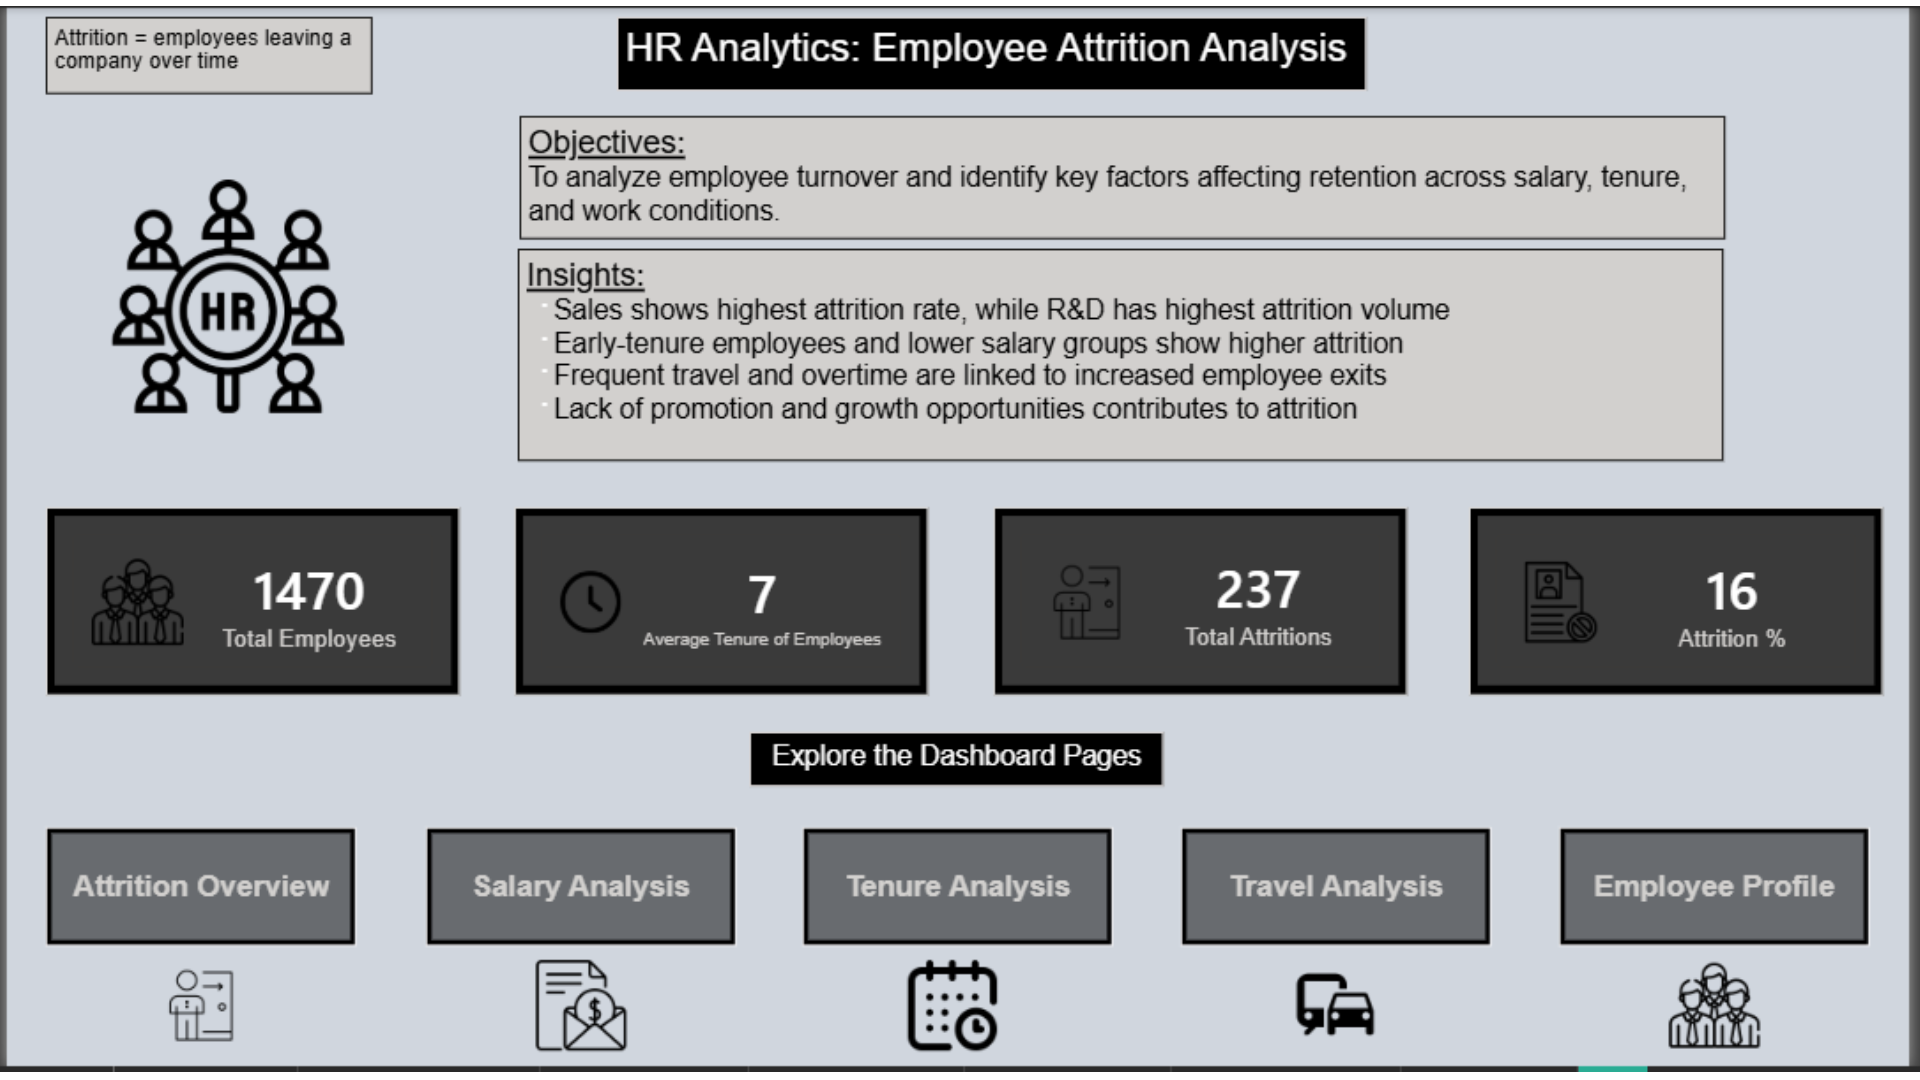

The page's visual inventory and layout, read from the dashboard file:
{"tool":"powerbi","page":{"name":"Home Page","canvas":[1280,720],"ordinal":0},"visuals":[{"type":"cardVisual","fields":{"Data":["Overview Measures.Total Employees"]},"box":[26.6,341.9,279.4,126.6],"z":0},{"type":"cardVisual","fields":{"Data":["Home Page Measures.Average Tenure of Employees"]},"box":[341.8,341.9,279.4,126.6],"z":1000},{"type":"cardVisual","fields":{"Data":["Overview Measures.Total Attritions"]},"box":[663.8,341.9,279.4,126.6],"z":2000},{"type":"cardVisual","fields":{"Data":["Overview Measures.Attribution %"]},"box":[984.5,341.9,279.4,126.6],"z":3000},{"type":"textbox","box":[410.2,12.4,505.1,49.5],"z":4000},{"type":"actionButton","box":[26.2,557.4,209.2,79.8],"z":5000},{"type":"actionButton","box":[282.2,557.4,209.2,79.8],"z":6000},{"type":"actionButton","box":[535.4,557.4,209.2,79.8],"z":7000},{"type":"actionButton","box":[790,557.4,209.2,79.8],"z":8000},{"type":"actionButton","box":[1044.6,557.4,209.2,79.8],"z":9000},{"type":"textbox","box":[499.6,492.7,279.4,37.2],"z":10000},{"type":"image","box":[89.5,646.9,82.6,60.6],"z":11000},{"type":"image","box":[345.5,646.9,82.6,60.6],"z":12000},{"type":"image","box":[598.7,646.9,75.7,60.6],"z":13000},{"type":"image","box":[853.3,645.5,82.6,61.9],"z":14000},{"type":"image","box":[1108,646.9,82.6,60.6],"z":15000},{"type":"image","box":[63.3,121.1,172,156.9],"z":16000},{"type":"textbox","box":[345.2,78.6,811.9,83.3],"z":17000},{"type":"textbox","box":[344,167.9,811.9,142.9],"z":18000},{"type":"textbox","box":[26.2,11.9,220.2,52.4],"z":19000}]}

Visuals, with their boxes in screenshot pixels (x1, y1, x2, y2), scaled from the page's 1280x720 canvas onto the 1920x1080 screenshot:
cardVisual - Overview Measures.Total Employees: (x1=40, y1=513, x2=459, y2=703)
cardVisual - Home Page Measures.Average Tenure of Employees: (x1=513, y1=513, x2=932, y2=703)
cardVisual - Overview Measures.Total Attritions: (x1=996, y1=513, x2=1415, y2=703)
cardVisual - Overview Measures.Attribution %: (x1=1477, y1=513, x2=1896, y2=703)
textbox: (x1=615, y1=19, x2=1373, y2=93)
actionButton: (x1=39, y1=836, x2=353, y2=956)
actionButton: (x1=423, y1=836, x2=737, y2=956)
actionButton: (x1=803, y1=836, x2=1117, y2=956)
actionButton: (x1=1185, y1=836, x2=1499, y2=956)
actionButton: (x1=1567, y1=836, x2=1881, y2=956)
textbox: (x1=749, y1=739, x2=1168, y2=795)
image: (x1=134, y1=970, x2=258, y2=1061)
image: (x1=518, y1=970, x2=642, y2=1061)
image: (x1=898, y1=970, x2=1012, y2=1061)
image: (x1=1280, y1=968, x2=1404, y2=1061)
image: (x1=1662, y1=970, x2=1786, y2=1061)
image: (x1=95, y1=182, x2=353, y2=417)
textbox: (x1=518, y1=118, x2=1736, y2=243)
textbox: (x1=516, y1=252, x2=1734, y2=466)
textbox: (x1=39, y1=18, x2=370, y2=96)
